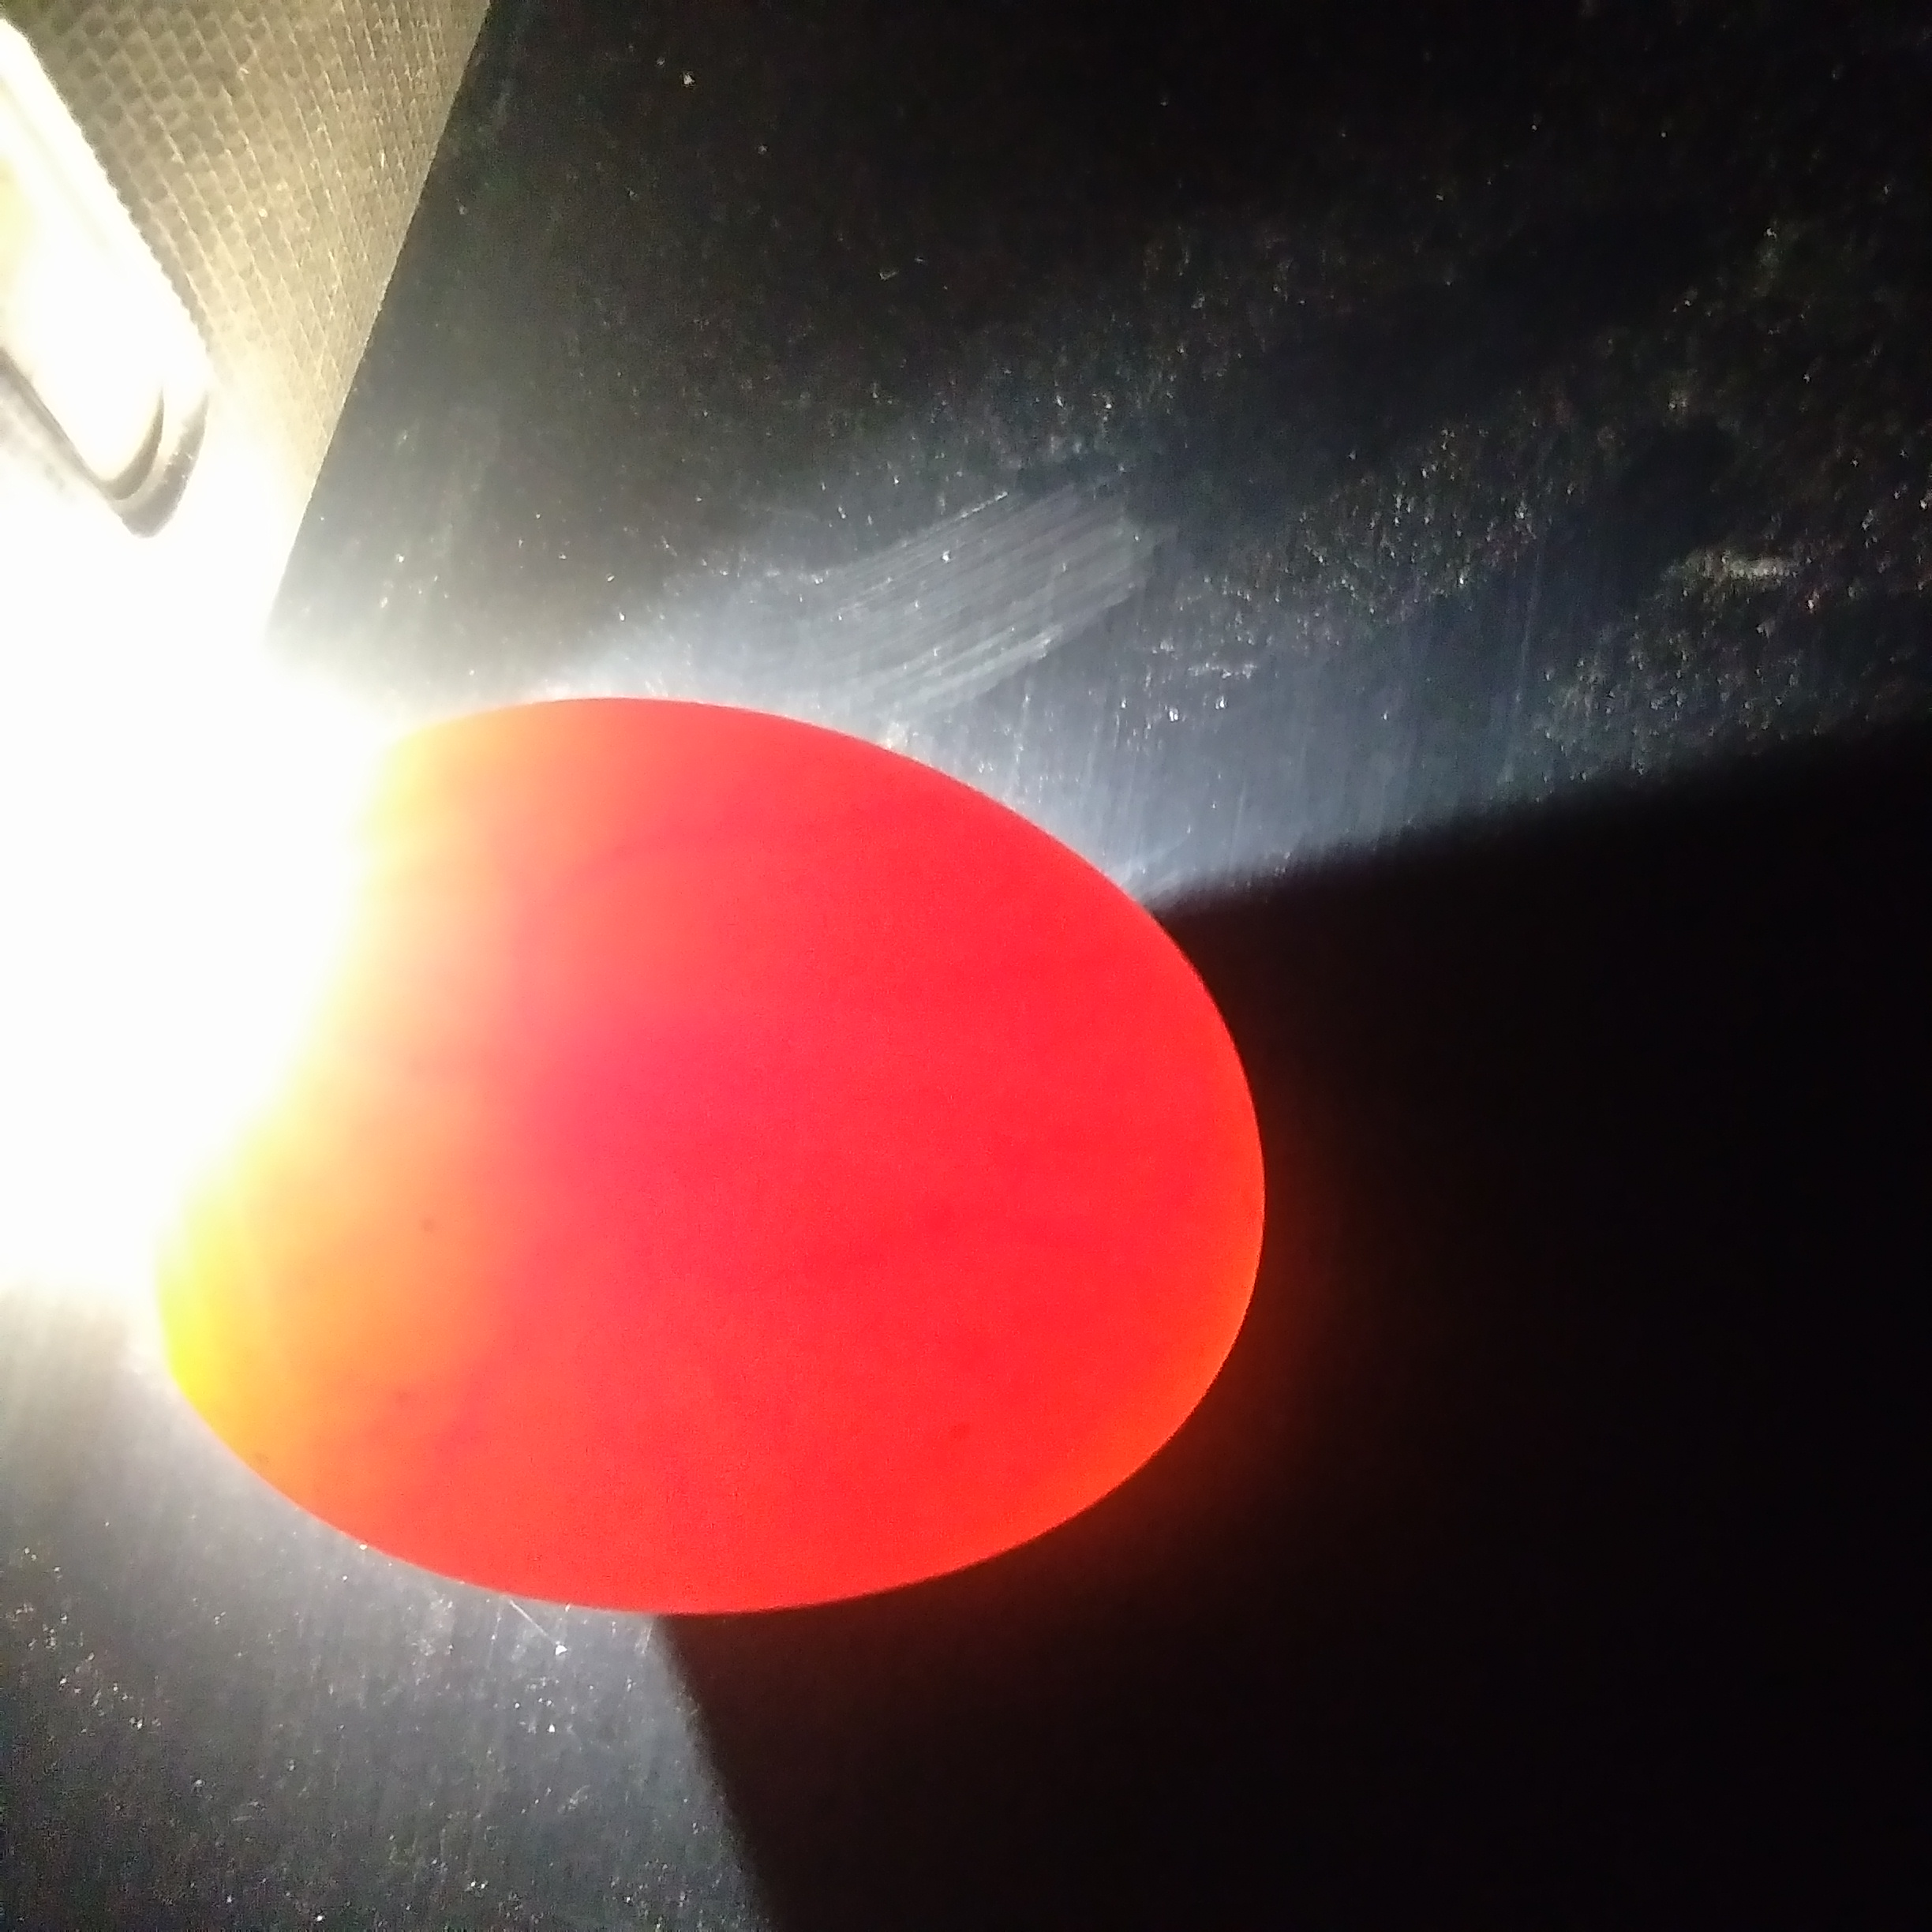bloodcell: (322, 1200, 977, 1523), (566, 771, 1003, 998)
